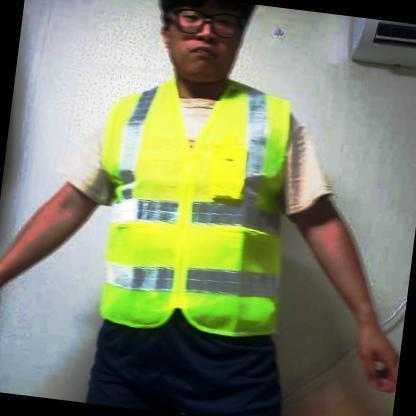vest: (86, 71, 304, 344)
